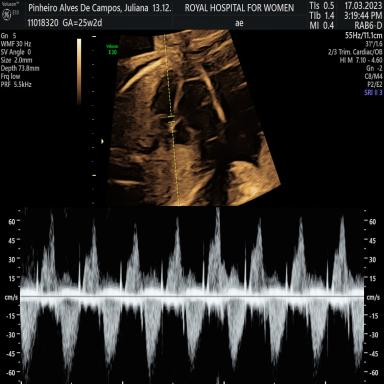Ultrasound-Waves: (27, 207, 363, 384)
